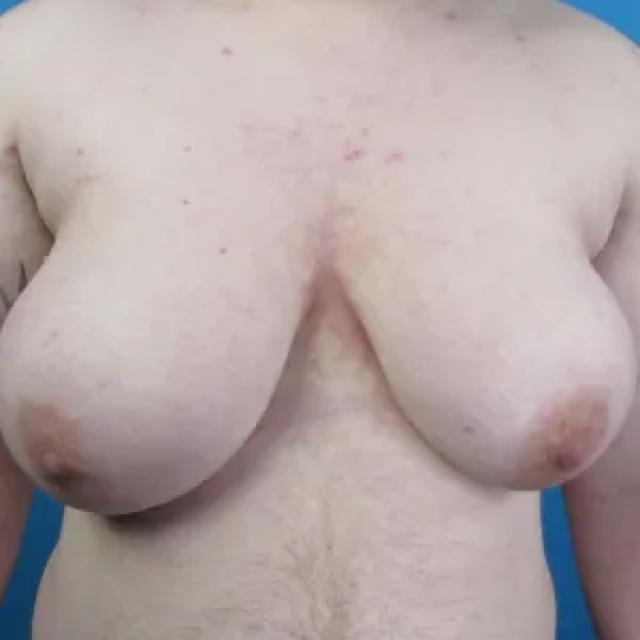Seno ileso: (0, 181, 326, 535), (332, 183, 640, 513)
